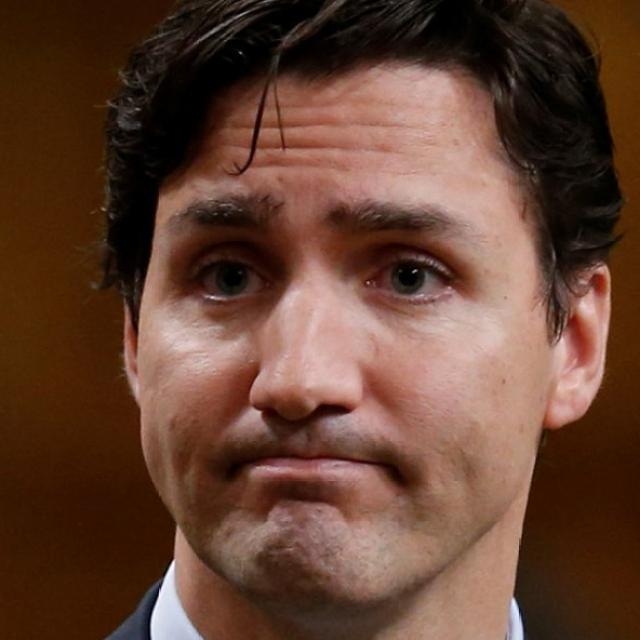Depress: (133, 74, 555, 612)
